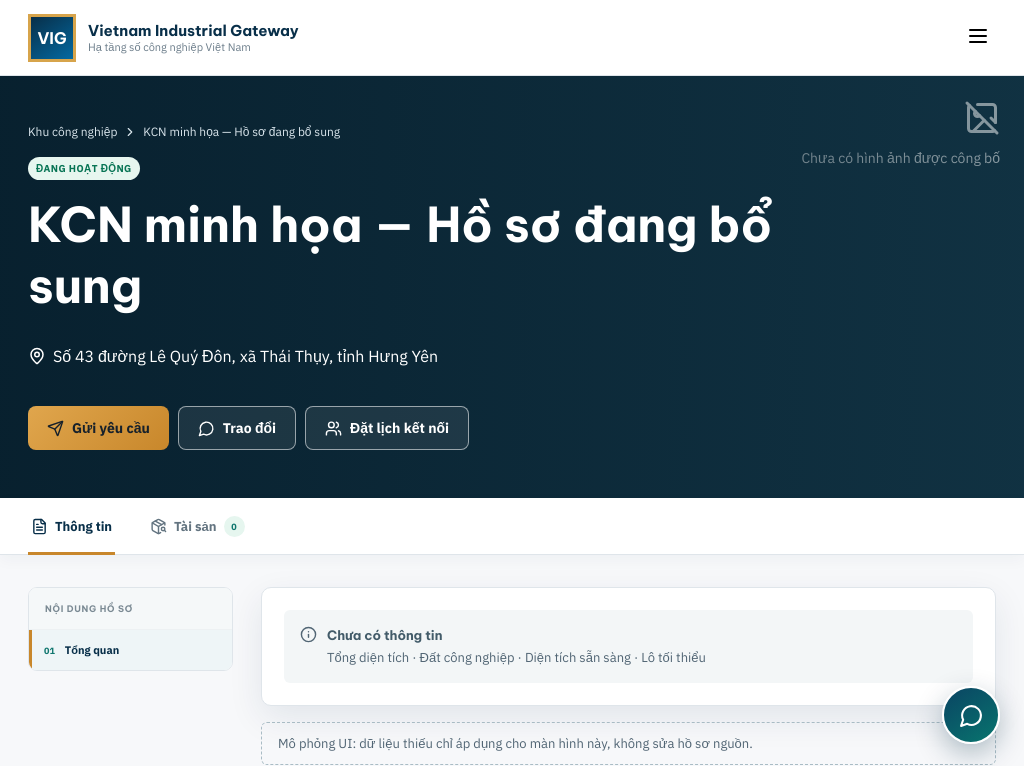
it: implemented UI flows › opens a sparse profile without an availability/phase crash and removes empty sections/nav
This screenshot has width=1024, height=766.
Expected: the heading "KCN minh họa — Hồ sơ đang bổ sung" is shown, [28,194,828,316]
Click the button "Tài sản 0": (197, 526) [147,498,248,554]
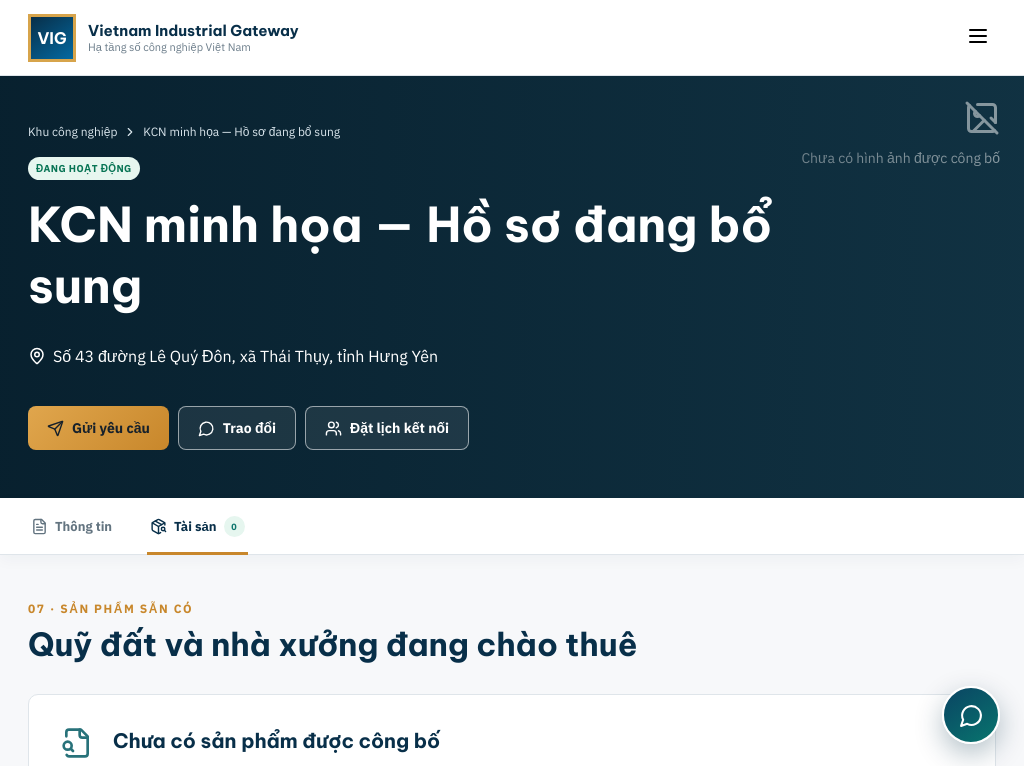
Expected: the heading "Chưa có sản phẩm được công bố" is shown, [113,727,474,755]
